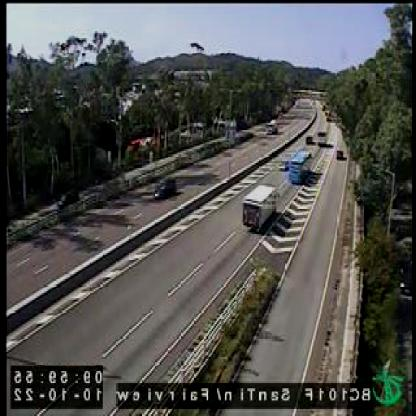Car: (154, 177, 176, 198), (276, 158, 286, 172), (336, 149, 346, 161)
Truck: (242, 186, 278, 232), (289, 152, 311, 186)
